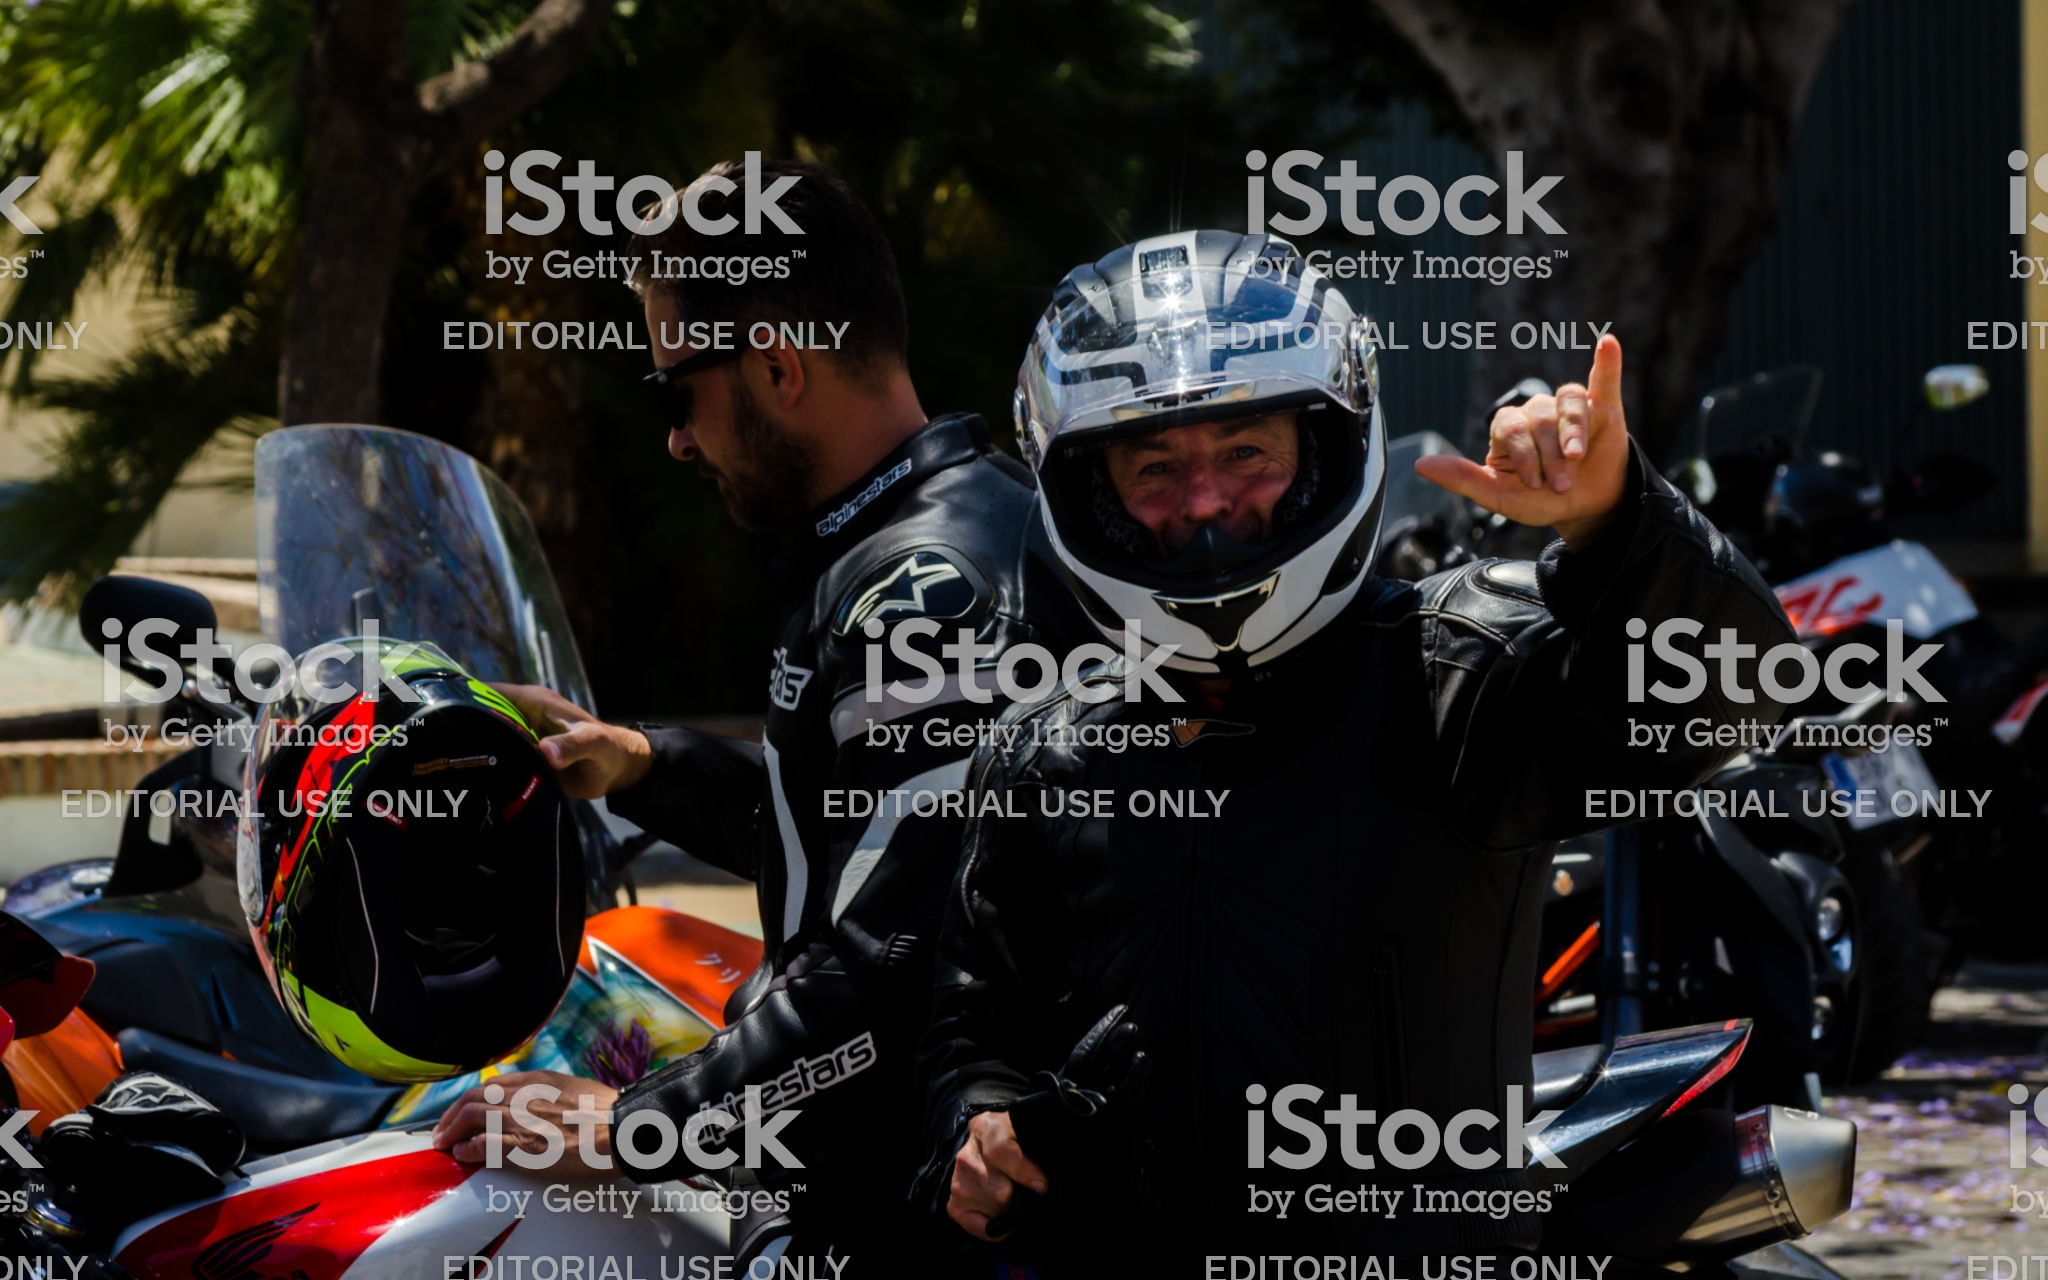helmet: (1011, 208, 1393, 649)
